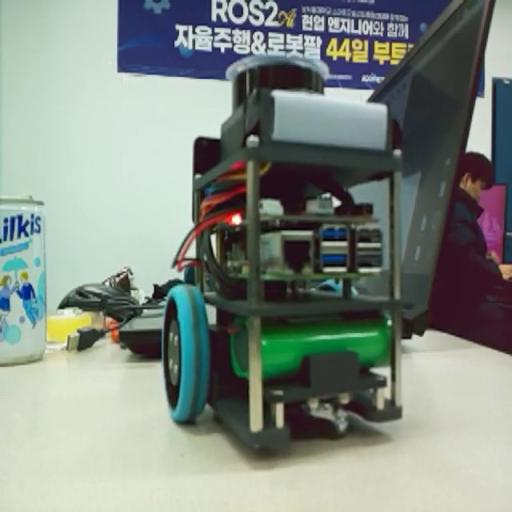pinky_63: (159, 50, 408, 456)
